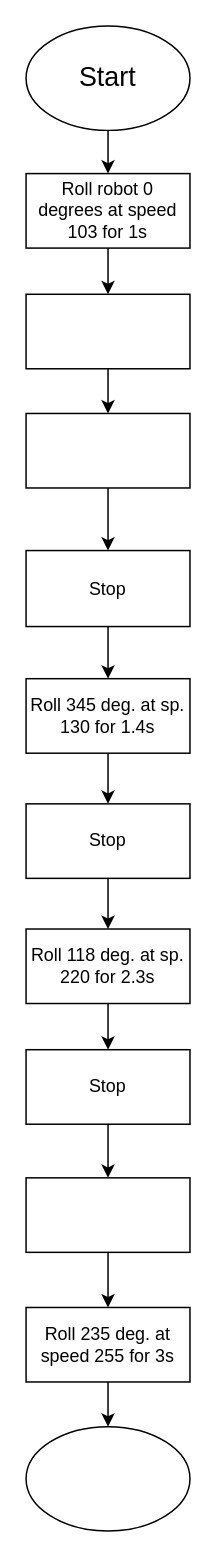
Some shapes in this 216 by 1557 pixel diagram are drawn without their labels. Here are the shapes that lost their labels. From the top down, the centre of each, then its label:
At (x=107, y=331): "Stop the robot".
At (x=107, y=450): "Roll 101 deg. at sp. 103 for 1.5s".
At (x=107, y=1214): "Delay for 2s".
At (x=107, y=1478): "End".
